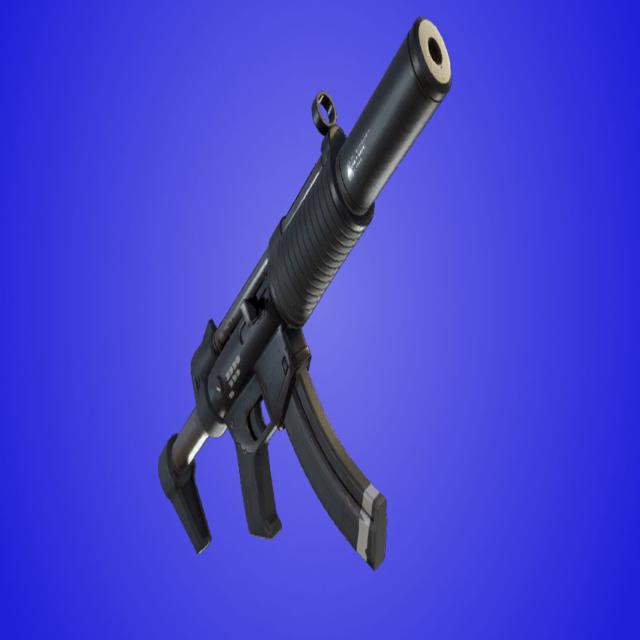Weapon: (158, 18, 451, 569)
